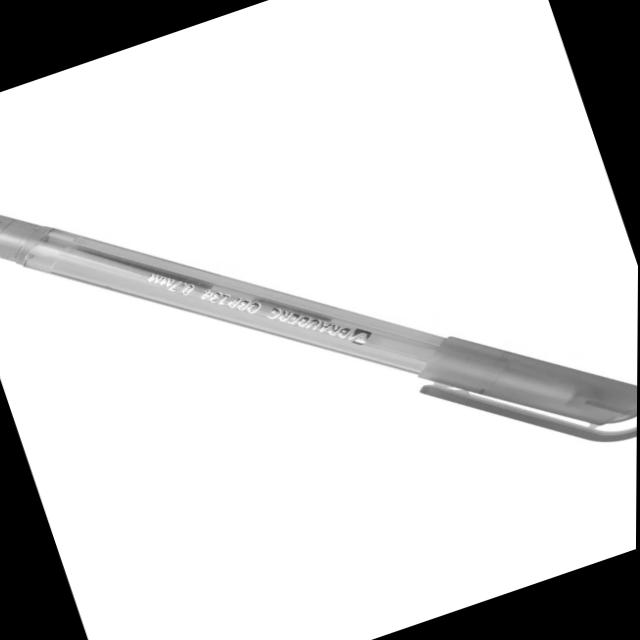pen: (0, 13, 640, 627)
